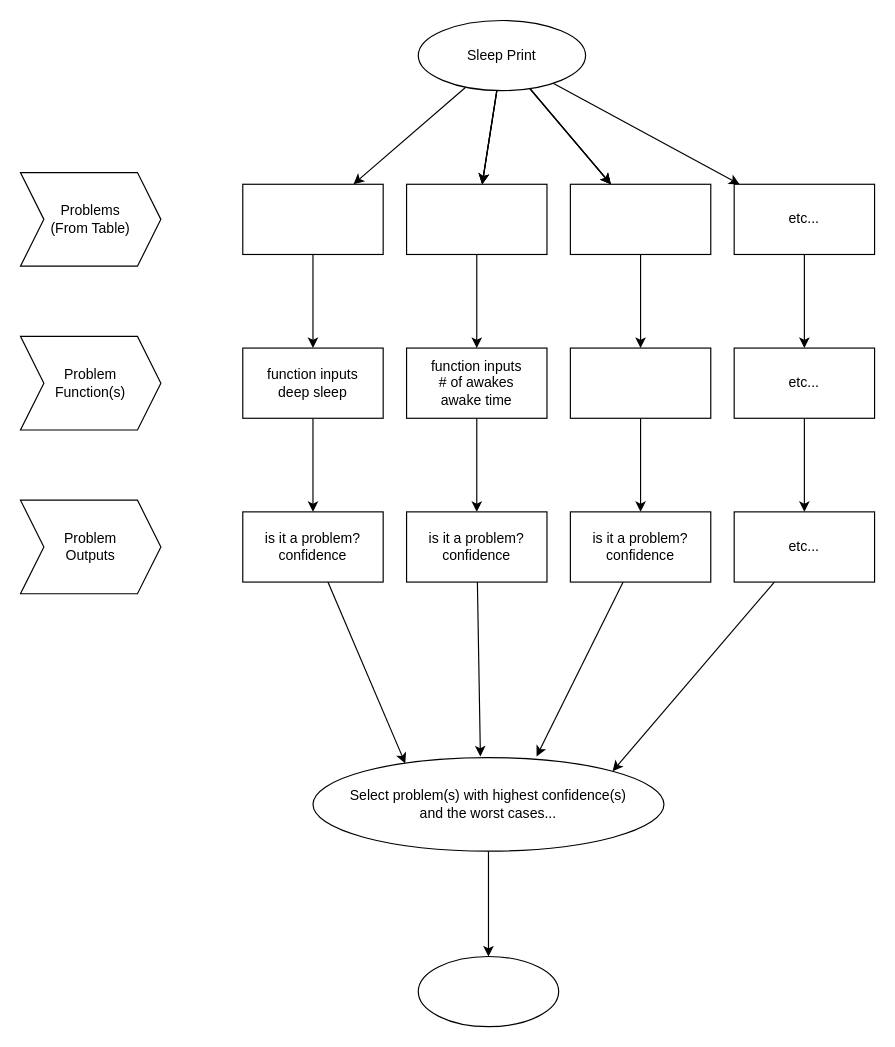
Some shapes in this 895 by 1047 pixel diagram are drawn without their labels. Here are the shapes that lost their labels. From the top down, the centre of each, then its label:
(x=312, y=218): Deep Sleep
(x=476, y=218): Waso
(x=640, y=218): Sleep Efficiency
(x=640, y=382): funcion inputs sleep efficiency
(x=488, y=991): Display?
